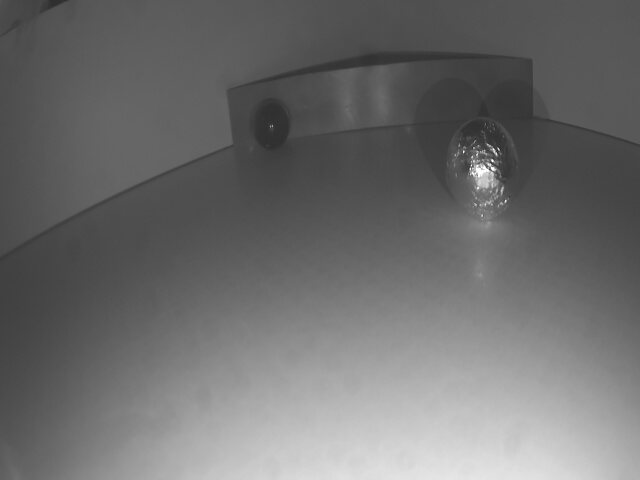Dead: (253, 103, 289, 149)
Green: (226, 61, 534, 149)
Live: (444, 118, 523, 221)
